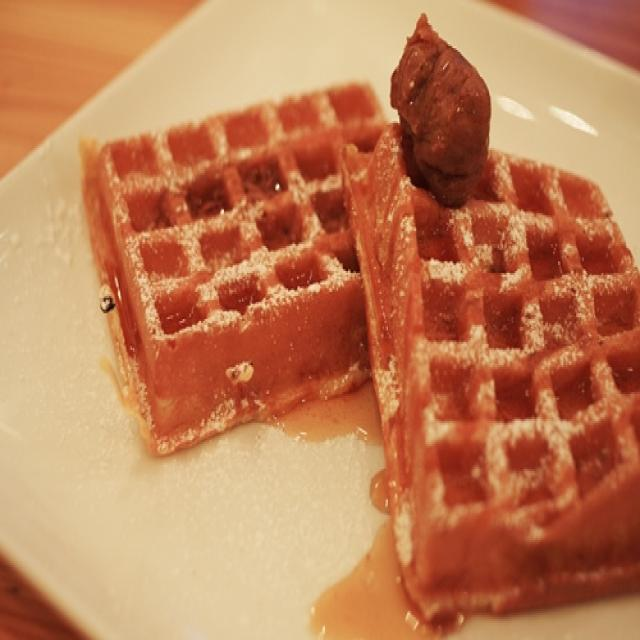炸货点心: (1, 4, 635, 626)
蛋糕甜品: (1, 4, 635, 626)
